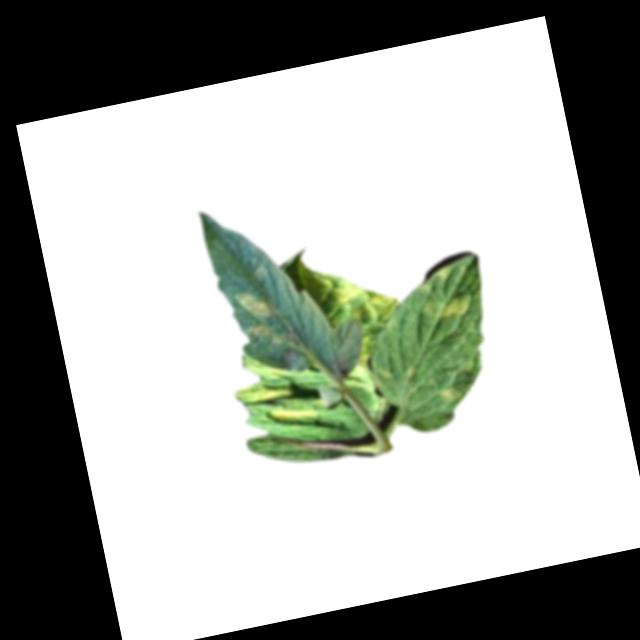Leaf_Mold: (315, 267, 415, 374), (231, 372, 295, 412), (415, 289, 476, 326), (265, 399, 321, 433), (234, 285, 275, 325), (435, 381, 463, 404)
